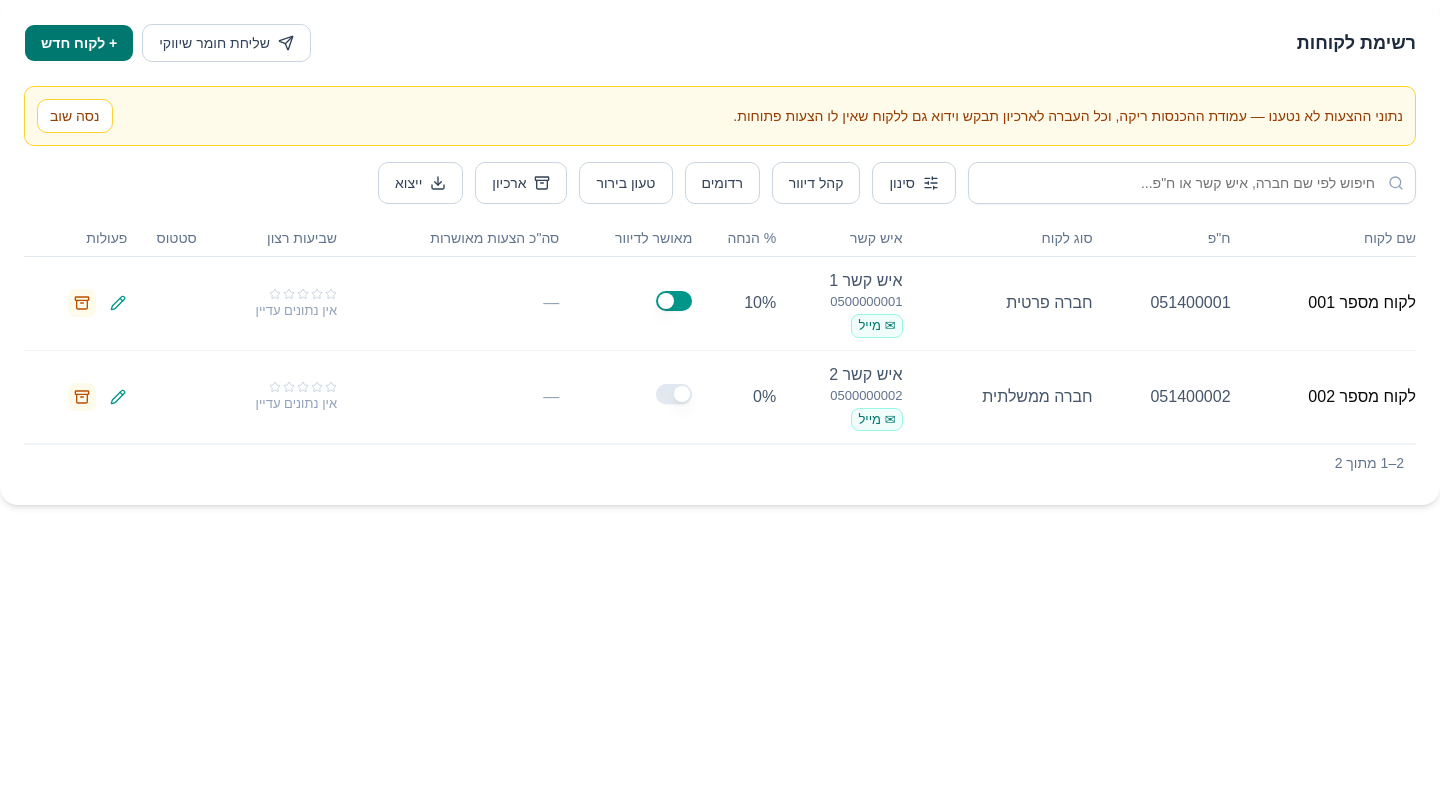
Test case: CustomersPage — חיבור לחלון-הייצוא › 🔴 כשל בטעינת ההצעות — החלון נחסם עם הסיבה, ולא מוריד קובץ עם עמודת-כסף ריקה
The width and height of the screenshot is (1440, 810).
Check: the message with test id "customers-revenue-error" is shown, box [24,86,1416,146]
Click the button with test id "customers-export-button" at [421, 183], box [378,162,463,204]
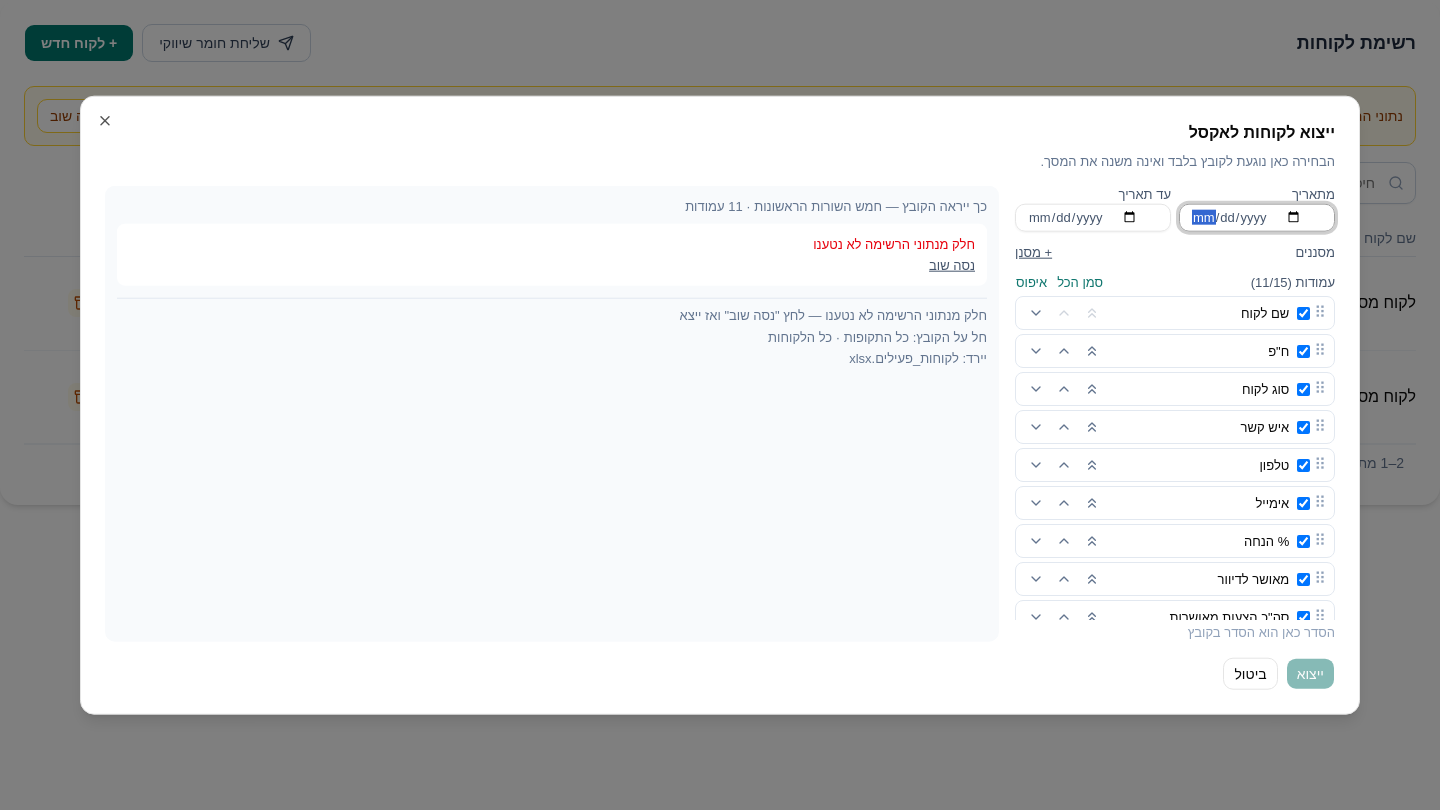
Check: the text with test id "export-count" shows "לא נטענו", box [680,308,987,323]
Check: the button with test id "export-dialog-run" is disabled, box [1286,657,1335,689]
Click the button "נסה שוב" at [952, 265], box [929,257,975,274]
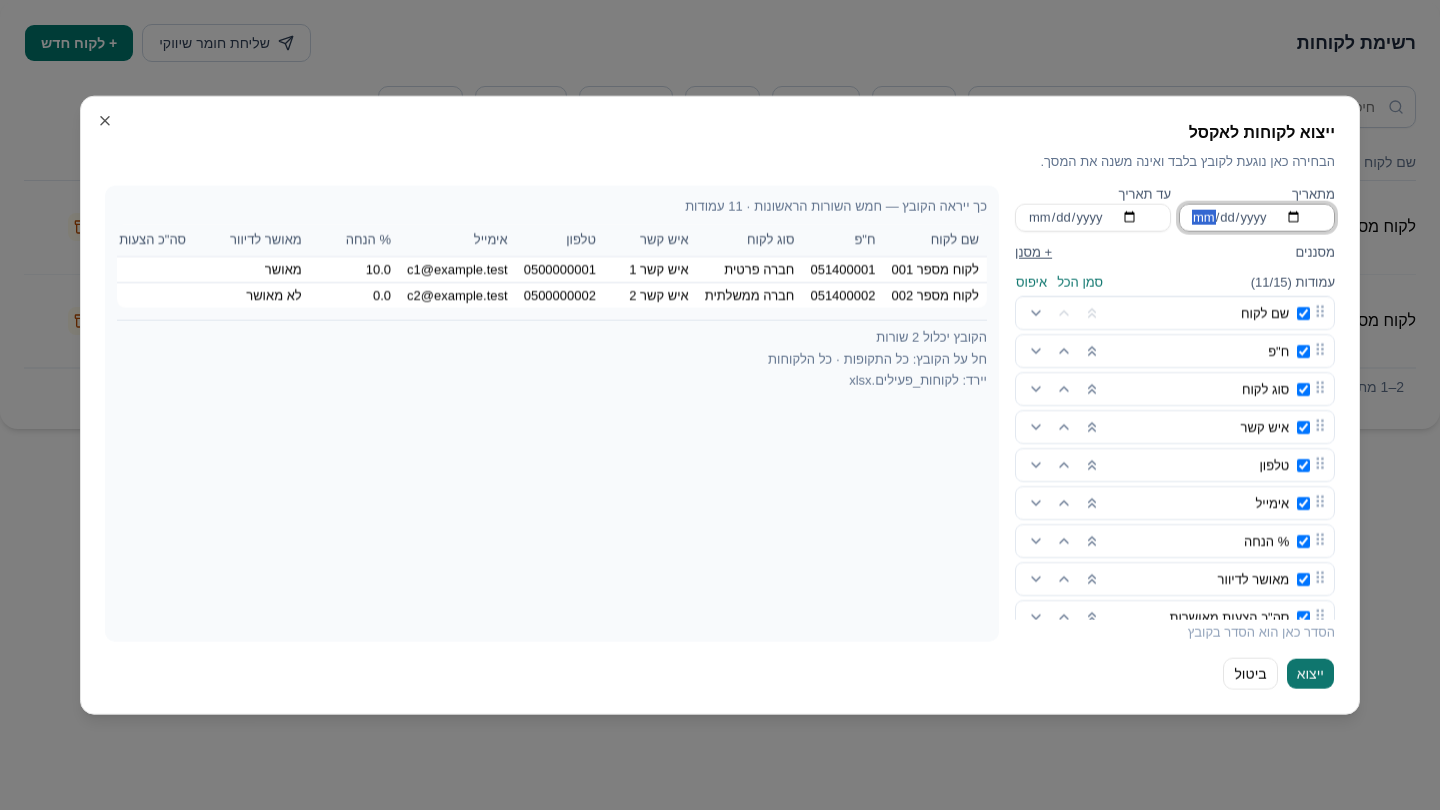
Check: the button with test id "export-dialog-run" is enabled, box [1286,657,1335,689]
